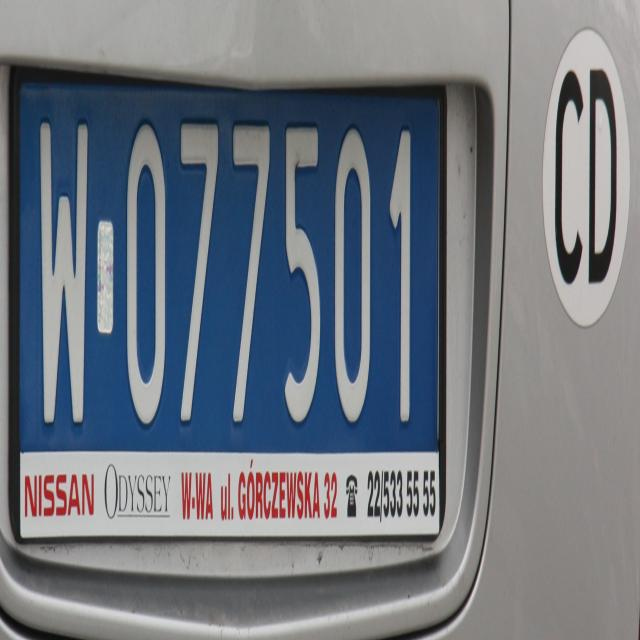pl_license_plate: (21, 99, 438, 448)
